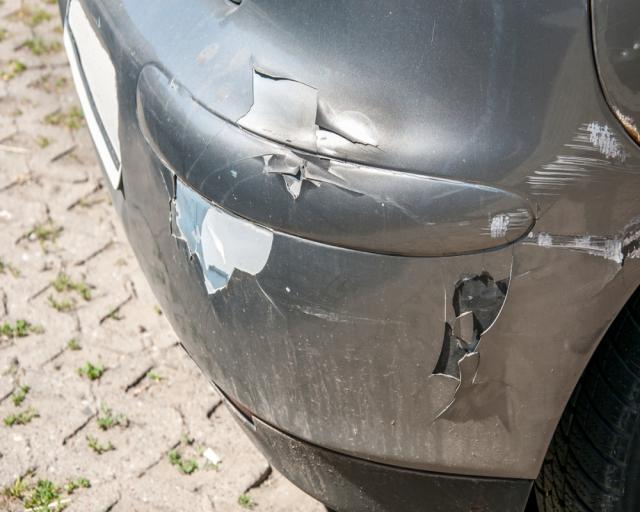scratch: (522, 114, 640, 268)
